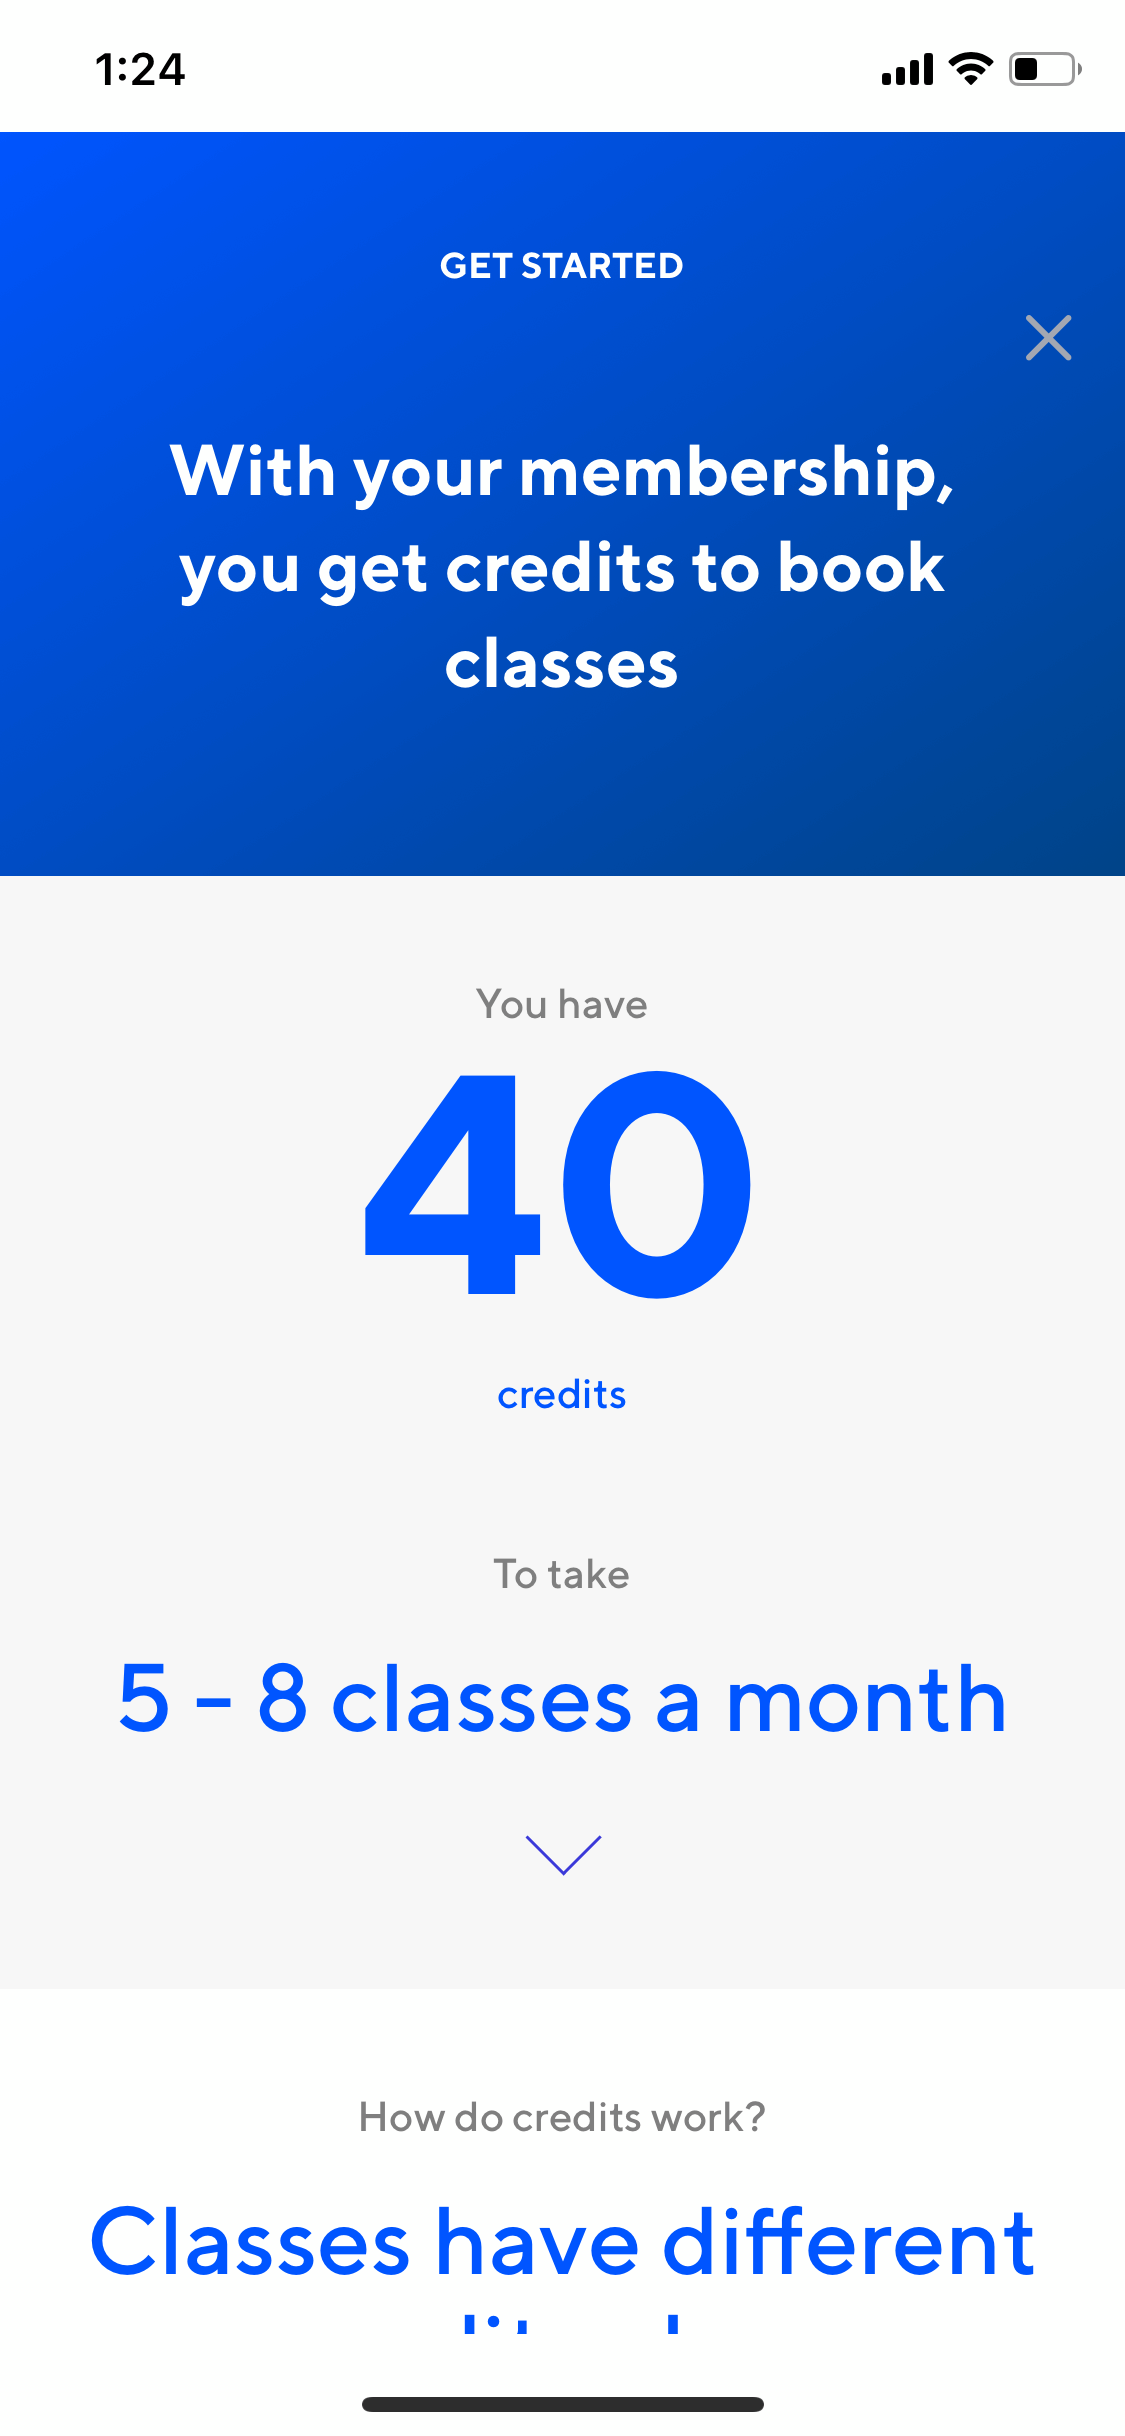Buttons: (991, 275, 1100, 390)
